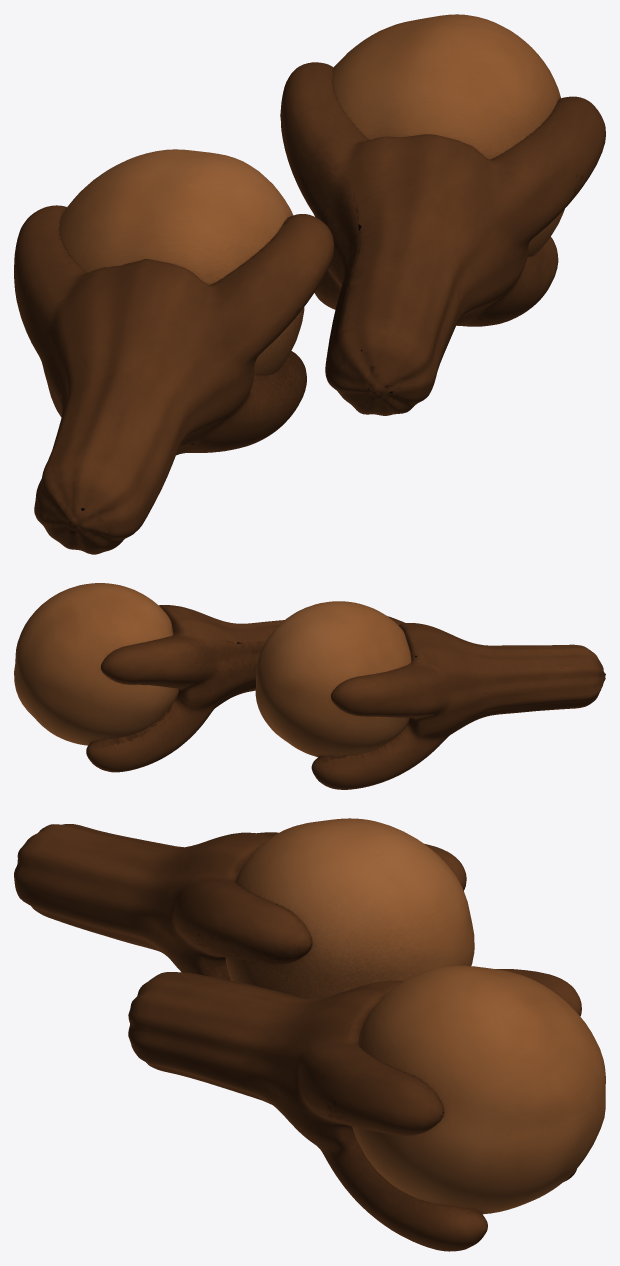
File: cengkeh.glb
The picture shows the model from 3 angles, top to bottom: view 1: azimuth 30°, elevation 25°; view 2: azimuth 150°, elevation 25°; view 3: azimuth 270°, elevation 25°; orthographic projection. The views are drawn at different scales.
Parts seen in each view (by area): view 1: Clove_Stems, Clove_Buds; view 2: Clove_Stems, Clove_Buds; view 3: Clove_Buds, Clove_Stems.
Part boxes in pixels (x1,y1,x2,y2): Clove_Stems: (14,62,605,554); Clove_Buds: (59,14,564,375); Clove_Stems: (86,605,605,789); Clove_Buds: (14,583,411,757); Clove_Buds: (225,818,605,1214); Clove_Stems: (14,824,581,1251).
Bounding box in the file's own units: 0.0853 × 0.0292 × 0.064.
2 materials, 2 textured.
